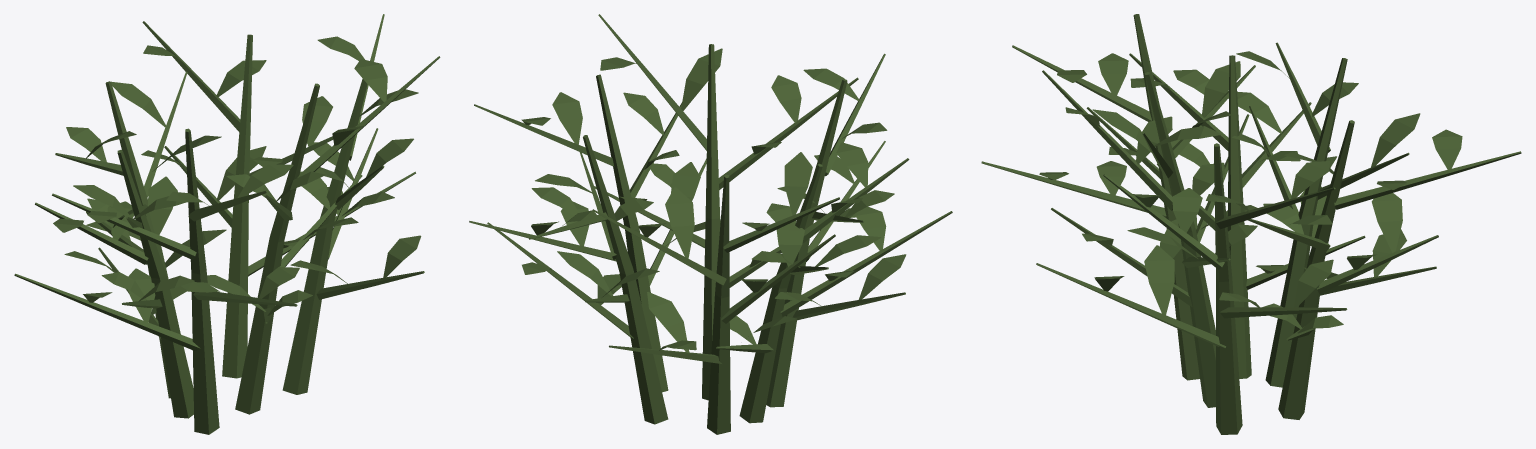
The model's file is plant_011b_branching_waterweed.glb.
3 views of the same model, side by side, from view 1: azimuth 30°, elevation 25°; view 2: azimuth 150°, elevation 25°; view 3: azimuth 270°, elevation 25° (orthographic). The views are drawn at different scales.
Visible parts, largest first — view 1: plant_011b_branching_waterweed__stems, plant_011b_branching_waterweed__leaf_clusters; view 2: plant_011b_branching_waterweed__stems, plant_011b_branching_waterweed__leaf_clusters; view 3: plant_011b_branching_waterweed__stems, plant_011b_branching_waterweed__leaf_clusters.
Part boxes in pixels (bbox=[...]): plant_011b_branching_waterweed__stems: bbox=[14, 14, 440, 434]; plant_011b_branching_waterweed__leaf_clusters: bbox=[53, 36, 421, 322]; plant_011b_branching_waterweed__stems: bbox=[469, 14, 952, 434]; plant_011b_branching_waterweed__leaf_clusters: bbox=[521, 48, 906, 352]; plant_011b_branching_waterweed__stems: bbox=[981, 14, 1521, 434]; plant_011b_branching_waterweed__leaf_clusters: bbox=[1039, 51, 1462, 333].
Size of the model in its own units: 1.5 by 1.17 by 1.63.
